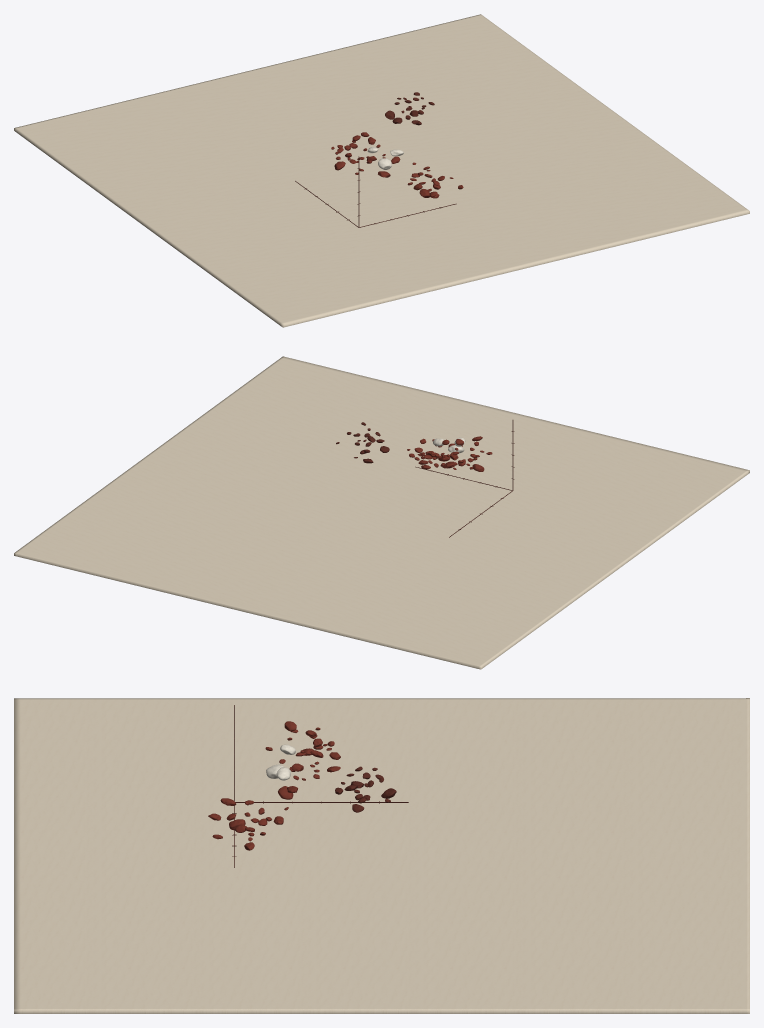
Rendered from emb-baked.glb.
3 views of the same model, one above another, from view 1: azimuth 30°, elevation 25°; view 2: azimuth 150°, elevation 25°; view 3: azimuth 270°, elevation 25° (orthographic). The views are drawn at different scales.
Parts seen in each view (by area): view 1: ground_emb; view 2: ground_emb; view 3: ground_emb.
Part boxes in pixels (bbox=[...]): ground_emb: bbox=[14, 14, 749, 327]; ground_emb: bbox=[14, 356, 749, 669]; ground_emb: bbox=[14, 698, 749, 1013].
Bounding box in the file's own units: 22 × 3.56 × 21.94.
Materials: 5 (5 with a texture image).
